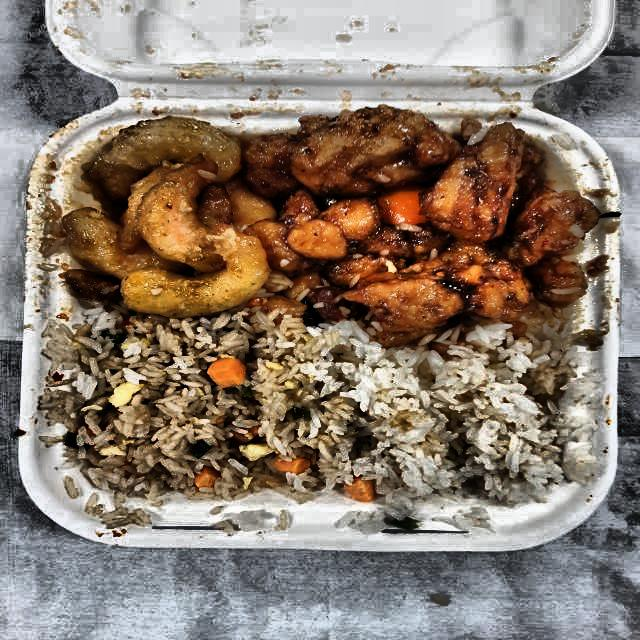Food: (240, 100, 599, 340), (27, 320, 329, 505), (36, 110, 290, 328), (325, 343, 584, 508)
